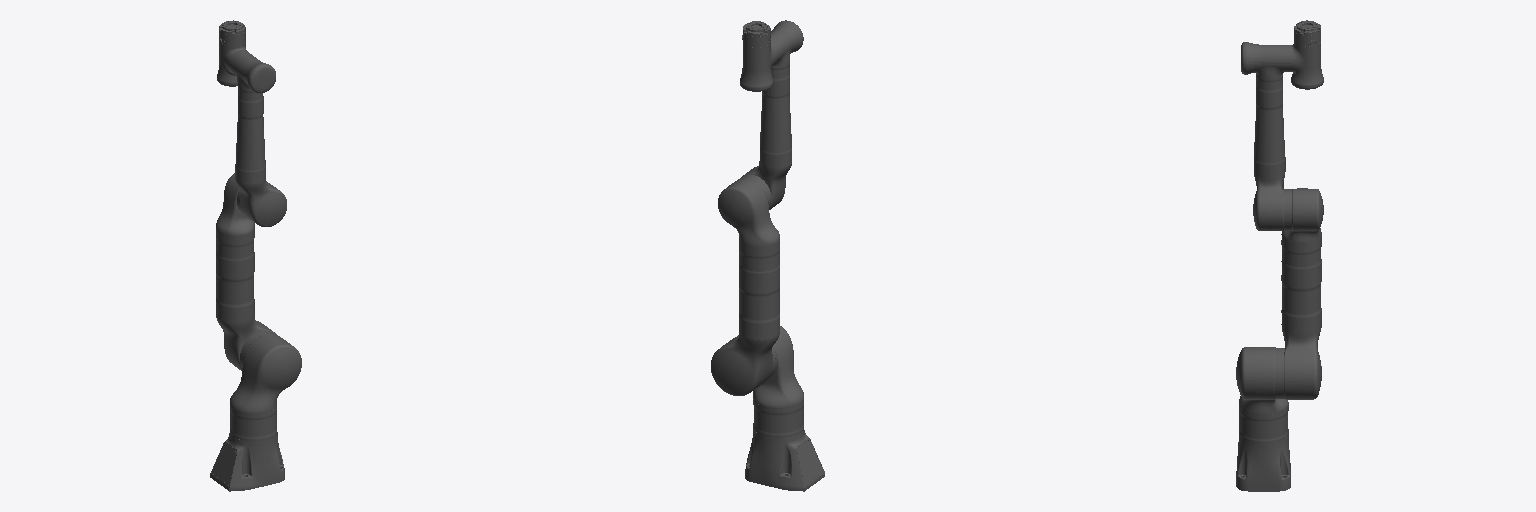
URDF robot description (kr1018):
<?xml version="1.0" ?>
<robot name="kr1018" xmlns:xacro="http://www.ros.org/wiki/xacro">
  <!-- Import Rviz colors -->
  <material name="Black">
    <color rgba="0.0 0.0 0.0 1.0"/>
  </material>
  <material name="Blue">
    <color rgba="0.0 0.0 0.8 1.0"/>
  </material>
  <material name="Green">
    <color rgba="0.0 0.8 0.0 1.0"/>
  </material>
  <material name="Grey">
    <color rgba="0.4 0.4 0.4 1.0"/>
  </material>
  <material name="Orange">
    <color rgba="1.0 0.423529411765 0.0392156862745 1.0"/>
  </material>
  <material name="Brown">
    <color rgba="0.870588235294 0.811764705882 0.764705882353 1.0"/>
  </material>
  <material name="Red">
    <color rgba="0.8 0.0 0.0 1.0"/>
  </material>
  <material name="White">
    <color rgba="1.0 1.0 1.0 1.0"/>
  </material>
  <!--Import the lbr kr macro -->
  <!-- Set to base_link just for testing it should be arm_link-->
  <link name="base_link"/>
  <!--kr-->
  <joint name="base_link_kr_joint" type="fixed">
    <origin rpy="0 0 0" xyz="0 0 0"/>
    <parent link="base_link"/>
    <child link="kr_link_0"/>
  </joint>
  <link name="kr_link_0">
    <inertial>
      <origin rpy="0 0 0" xyz="-0.1 0 0.07"/>
      <mass value="5"/>
      <inertia ixx="0.05" ixy="0" ixz="0" iyy="0.06" iyz="0" izz="0.03"/>
    </inertial>
    <visual>
      <origin rpy="0 0 0" xyz="0 0 0"/>
      <geometry>
        <mesh filename="package://bunker_description/meshes/kr1018/visual/link_0.stl"/>
      </geometry>
      <material name="Grey"/>
    </visual>
    <collision>
      <origin rpy="0 0 0" xyz="0 0 0"/>
      <geometry>
        <mesh filename="package://bunker_description/meshes/kr1018/collision/link_0.stl"/>
      </geometry>
      <material name="Grey"/>
    </collision>
    <self_collision_checking>
      <origin rpy="0 0 0" xyz="0 0 0"/>
      <geometry>
        <capsule length="0.25" radius="0.15"/>
      </geometry>
    </self_collision_checking>
  </link>
  <joint name="kr_joint_1" type="revolute">
    <parent link="kr_link_0"/>
    <child link="kr_link_1"/>
    <origin rpy="0 0 0" xyz="0.017 0 0.2432"/>
    <axis xyz="0 0 1"/>
    <limit effort="300" lower="-2.96705972839" upper="2.96705972839" velocity="10"/>
    <safety_controller k_position="100" k_velocity="2" soft_lower_limit="-2.93215314335" soft_upper_limit="2.93215314335"/>
    <dynamics damping="0.5"/>
  </joint>
  <link name="kr_link_1">
    <inertial>
      <origin rpy="0 0 0" xyz="0 -0.03 0.12"/>
      <mass value="4"/>
      <inertia ixx="0.1" ixy="0" ixz="0" iyy="0.09" iyz="0" izz="0.02"/>
    </inertial>
    <visual>
      <origin rpy="0 0 0" xyz="0 0 0"/>
      <geometry>
        <mesh filename="package://bunker_description/meshes/kr1018/visual/link_1.stl"/>
      </geometry>
      <material name="Grey"/>
    </visual>
    <collision>
      <origin rpy="0 0 0" xyz="0 0 0"/>
      <geometry>
        <mesh filename="package://bunker_description/meshes/kr1018/collision/link_1.stl"/>
      </geometry>
      <material name="Grey"/>
    </collision>
  </link>
  <joint name="kr_joint_2" type="revolute">
    <parent link="kr_link_1"/>
    <child link="kr_link_2"/>
    <origin rpy="1.57079632679   0 3.14159265359" xyz="0.062 0.0462 0.13"/>
    <axis xyz="0 0 1"/>
    <limit effort="300" lower="-2.09439510239" upper="2.09439510239" velocity="10"/>
    <safety_controller k_position="100" k_velocity="2" soft_lower_limit="-2.05948851735" soft_upper_limit="2.05948851735"/>
    <dynamics damping="0.5"/>
  </joint>
  <link name="kr_link_2">
    <inertial>
      <origin rpy="0 0 0" xyz="0.0003 0.059 0.042"/>
      <mass value="4"/>
      <inertia ixx="0.05" ixy="0" ixz="0" iyy="0.018" iyz="0" izz="0.044"/>
    </inertial>
    <visual>
      <origin rpy="0 0 0" xyz="0 0 0"/>
      <geometry>
        <mesh filename="package://bunker_description/meshes/kr1018/visual/link_2.stl"/>
      </geometry>
      <material name="Grey"/>
    </visual>
    <collision>
      <origin rpy="0 0 0" xyz="0 0 0"/>
      <geometry>
        <mesh filename="package://bunker_description/meshes/kr1018/collision/link_2.stl"/>
      </geometry>
      <material name="Grey"/>
    </collision>
  </link>
  <joint name="kr_joint_3" type="revolute">
    <parent link="kr_link_2"/>
    <child link="kr_link_3"/>
    <origin rpy="1.57079632679 0 3.14159265359" xyz="0.062 0.2908 0.0647"/>
    <axis xyz="0 0 1"/>
    <limit effort="300" lower="-2.96705972839" upper="2.96705972839" velocity="10"/>
    <safety_controller k_position="100" k_velocity="2" soft_lower_limit="-2.93215314335" soft_upper_limit="2.93215314335"/>
    <dynamics damping="0.5"/>
  </joint>
  <link name="kr_link_3">
    <inertial>
      <origin rpy="0 0 0" xyz="0 0.03 0.13"/>
      <mass value="3"/>
      <inertia ixx="0.08" ixy="0" ixz="0" iyy="0.075" iyz="0" izz="0.01"/>
    </inertial>
    <visual>
      <origin rpy="0 0 0" xyz="0 0 0"/>
      <geometry>
        <mesh filename="package://bunker_description/meshes/kr1018/visual/link_3.stl"/>
      </geometry>
      <material name="Grey"/>
    </visual>
    <collision>
      <origin rpy="0 0 0" xyz="0 0 0"/>
      <geometry>
        <mesh filename="package://bunker_description/meshes/kr1018/collision/link_3.stl"/>
      </geometry>
      <material name="Grey"/>
    </collision>
  </link>
  <joint name="kr_joint_4" type="revolute">
    <parent link="kr_link_3"/>
    <child link="kr_link_4"/>
    <origin rpy="1.57079632679 0 0" xyz="0.05 -0.0407 0.2317"/>
    <axis xyz="0 0 1"/>
    <limit effort="300" lower="-2.09439510239" upper="2.09439510239" velocity="10"/>
    <safety_controller k_position="100" k_velocity="2" soft_lower_limit="-2.05948851735" soft_upper_limit="2.05948851735"/>
    <dynamics damping="0.5"/>
  </joint>
  <link name="kr_link_4">
    <inertial>
      <origin rpy="0 0 0" xyz="0 0.067 0.034"/>
      <mass value="2.7"/>
      <inertia ixx="0.03" ixy="0" ixz="0" iyy="0.01" iyz="0" izz="0.029"/>
    </inertial>
    <visual>
      <origin rpy="0 0 0" xyz="0 0 0"/>
      <geometry>
        <mesh filename="package://bunker_description/meshes/kr1018/visual/link_4.stl"/>
      </geometry>
      <material name="Grey"/>
    </visual>
    <collision>
      <origin rpy="0 0 0" xyz="0 0 0"/>
      <geometry>
        <mesh filename="package://bunker_description/meshes/kr1018/collision/link_4.stl"/>
      </geometry>
      <material name="Grey"/>
    </collision>
  </link>
  <joint name="kr_joint_5" type="revolute">
    <parent link="kr_link_4"/>
    <child link="kr_link_5"/>
    <origin rpy="-1.57079632679 3.14159265359 0" xyz="-0.05 0.4195 0.0532"/>
    <axis xyz="0 0 1"/>
    <limit effort="300" lower="-2.96705972839" upper="2.96705972839" velocity="10"/>
    <safety_controller k_position="100" k_velocity="2" soft_lower_limit="-2.93215314335" soft_upper_limit="2.93215314335"/>
    <dynamics damping="0.5"/>
  </joint>
  <link name="kr_link_5">
    <inertial>
      <origin rpy="0 0 0" xyz="0.0001 0.021 0.076"/>
      <mass value="1.7"/>
      <inertia ixx="0.02" ixy="0" ixz="0" iyy="0.018" iyz="0" izz="0.005"/>
    </inertial>
    <visual>
      <origin rpy="0 0 0" xyz="0 0 0"/>
      <geometry>
        <mesh filename="package://bunker_description/meshes/kr1018/visual/link_5.stl"/>
      </geometry>
      <material name="Grey"/>
    </visual>
    <collision>
      <origin rpy="0 0 0" xyz="0 0 0"/>
      <geometry>
        <mesh filename="package://bunker_description/meshes/kr1018/collision/link_5.stl"/>
      </geometry>
      <material name="Grey"/>
    </collision>
  </link>
  <joint name="kr_joint_6" type="revolute">
    <parent link="kr_link_5"/>
    <child link="kr_link_6"/>
    <origin rpy="1.57079632679 0 0" xyz="0 -0.0645 0.0465"/>
    <axis xyz="0 0 1"/>
    <limit effort="300" lower="-2.09439510239" upper="2.09439510239" velocity="10"/>
    <safety_controller k_position="100" k_velocity="2" soft_lower_limit="-2.05948851735" soft_upper_limit="2.05948851735"/>
    <dynamics damping="0.5"/>
  </joint>
  <link name="kr_link_6">
    <inertial>
      <origin rpy="0 0 0" xyz="0 0.0006 0.0004"/>
      <mass value="1.8"/>
      <inertia ixx="0.005" ixy="0" ixz="0" iyy="0.0036" iyz="0" izz="0.0047"/>
    </inertial>
    <visual>
      <origin rpy="0 0 0" xyz="0 0 0"/>
      <geometry>
        <mesh filename="package://bunker_description/meshes/kr1018/visual/link_6.stl"/>
      </geometry>
      <material name="Grey"/>
    </visual>
    <collision>
      <origin rpy="0 0 0" xyz="0 0 0"/>
      <geometry>
        <mesh filename="package://bunker_description/meshes/kr1018/collision/link_6.stl"/>
      </geometry>
      <material name="Grey"/>
    </collision>
  </link>
  <joint name="kr_joint_7" type="revolute">
    <parent link="kr_link_6"/>
    <child link="kr_link_7"/>
    <origin rpy="-1.57079632679 3.14159265359 0" xyz="0 0.05655 0.0465"/>
    <axis xyz="0 0 1"/>
    <limit effort="300" lower="-3.05432619099" upper="3.05432619099" velocity="10"/>
    <safety_controller k_position="100" k_velocity="2" soft_lower_limit="-3.01941960595" soft_upper_limit="3.01941960595"/>
    <dynamics damping="0.5"/>
  </joint>
  <link name="kr_link_7">
    <inertial>
      <origin rpy="0 0 0" xyz="0 0 0.02"/>
      <mass value="0.3"/>
      <inertia ixx="0.001" ixy="0" ixz="0" iyy="0.001" iyz="0" izz="0.001"/>
    </inertial>
    <visual>
      <origin rpy="0 0 0" xyz="0 0 0"/>
      <geometry>
        <mesh filename="package://bunker_description/meshes/kr1018/visual/link_7.stl"/>
      </geometry>
      <material name="Grey"/>
    </visual>
    <collision>
      <origin rpy="0 0 0" xyz="0 0 0"/>
      <geometry>
        <mesh filename="package://bunker_description/meshes/kr1018/collision/link_7.stl"/>
      </geometry>
      <material name="Grey"/>
    </collision>
  </link>
  <joint name="kr_joint_ee" type="fixed">
    <parent link="kr_link_7"/>
    <child link="kr_link_ee"/>
    <origin rpy="0 -1.57079632679 0" xyz="0 0 0.05145"/>
  </joint>
  <link name="kr_link_ee">
    </link>
  <joint name="kr_joint_ee_kuka" type="fixed">
    <parent link="kr_link_7"/>
    <child link="kr_link_ee_kuka"/>
    <origin rpy="3.14159265359 3.14159265359 3.14159265359" xyz="0 0 0.045"/>
    <axis xyz="0 0 1"/>
  </joint>
  <link name="kr_link_ee_kuka">
    </link>
  <gazebo>
    <plugin filename="libgazebo_ros_control.so" name="gazebo_ros_control">
      <robotNamespace>/kr</robotNamespace>
    </plugin>
  </gazebo>
  <gazebo reference="kr_link_0">
    <material>Gazebo/Grey</material>
    <mu1>0.2</mu1>
    <mu2>0.2</mu2>
  </gazebo>
  <gazebo reference="kr_link_1">
    <material>Gazebo/Grey</material>
    <mu1>0.2</mu1>
    <mu2>0.2</mu2>
  </gazebo>
  <gazebo reference="kr_link_2">
    <material>Gazebo/Grey</material>
    <mu1>0.2</mu1>
    <mu2>0.2</mu2>
  </gazebo>
  <gazebo reference="kr_link_3">
    <material>Gazebo/Grey</material>
    <mu1>0.2</mu1>
    <mu2>0.2</mu2>
  </gazebo>
  <gazebo reference="kr_link_4">
    <material>Gazebo/Grey</material>
    <mu1>0.2</mu1>
    <mu2>0.2</mu2>
  </gazebo>
  <gazebo reference="kr_link_5">
    <material>Gazebo/Grey</material>
    <mu1>0.2</mu1>
    <mu2>0.2</mu2>
  </gazebo>
  <gazebo reference="kr_link_6">
    <material>Gazebo/Grey</material>
    <mu1>0.2</mu1>
    <mu2>0.2</mu2>
  </gazebo>
  <gazebo reference="kr_link_7">
    <material>Gazebo/Grey</material>
    <mu1>0.2</mu1>
    <mu2>0.2</mu2>
  </gazebo>
  <transmission name="kr_tran_1">
    <robotNamespace>/kr</robotNamespace>
    <type>transmission_interface/SimpleTransmission</type>
    <joint name="kr_joint_1">
      <hardwareInterface>PositionJointInterface</hardwareInterface>
    </joint>
    <actuator name="kr_motor_1">
      <hardwareInterface>PositionJointInterface</hardwareInterface>
      <mechanicalReduction>1</mechanicalReduction>
    </actuator>
  </transmission>
  <transmission name="kr_tran_2">
    <robotNamespace>/kr</robotNamespace>
    <type>transmission_interface/SimpleTransmission</type>
    <joint name="kr_joint_2">
      <hardwareInterface>PositionJointInterface</hardwareInterface>
    </joint>
    <actuator name="kr_motor_2">
      <hardwareInterface>PositionJointInterface</hardwareInterface>
      <mechanicalReduction>1</mechanicalReduction>
    </actuator>
  </transmission>
  <transmission name="kr_tran_3">
    <robotNamespace>/kr</robotNamespace>
    <type>transmission_interface/SimpleTransmission</type>
    <joint name="kr_joint_3">
      <hardwareInterface>PositionJointInterface</hardwareInterface>
    </joint>
    <actuator name="kr_motor_3">
      <hardwareInterface>PositionJointInterface</hardwareInterface>
      <mechanicalReduction>1</mechanicalReduction>
    </actuator>
  </transmission>
  <transmission name="kr_tran_4">
    <robotNamespace>/kr</robotNamespace>
    <type>transmission_interface/SimpleTransmission</type>
    <joint name="kr_joint_4">
      <hardwareInterface>PositionJointInterface</hardwareInterface>
    </joint>
    <actuator name="kr_motor_4">
      <hardwareInterface>PositionJointInterface</hardwareInterface>
      <mechanicalReduction>1</mechanicalReduction>
    </actuator>
  </transmission>
  <transmission name="kr_tran_5">
    <robotNamespace>/kr</robotNamespace>
    <type>transmission_interface/SimpleTransmission</type>
    <joint name="kr_joint_5">
      <hardwareInterface>PositionJointInterface</hardwareInterface>
    </joint>
    <actuator name="kr_motor_5">
      <hardwareInterface>PositionJointInterface</hardwareInterface>
      <mechanicalReduction>1</mechanicalReduction>
    </actuator>
  </transmission>
  <transmission name="kr_tran_6">
    <robotNamespace>/kr</robotNamespace>
    <type>transmission_interface/SimpleTransmission</type>
    <joint name="kr_joint_6">
      <hardwareInterface>PositionJointInterface</hardwareInterface>
    </joint>
    <actuator name="kr_motor_6">
      <hardwareInterface>PositionJointInterface</hardwareInterface>
      <mechanicalReduction>1</mechanicalReduction>
    </actuator>
  </transmission>
  <transmission name="kr_tran_7">
    <robotNamespace>/kr</robotNamespace>
    <type>transmission_interface/SimpleTransmission</type>
    <joint name="kr_joint_7">
      <hardwareInterface>PositionJointInterface</hardwareInterface>
    </joint>
    <actuator name="kr_motor_7">
      <hardwareInterface>PositionJointInterface</hardwareInterface>
      <mechanicalReduction>1</mechanicalReduction>
    </actuator>
  </transmission>
</robot>

--- Facts derived from the render (not from the file) ---
Views: 3 orthographic renders of the robot side by side, from view 1: azimuth 30°, elevation 25°; view 2: azimuth 150°, elevation 25°; view 3: azimuth 270°, elevation 25°.
Robot: kr1018 — 11 links, 10 joints (7 revolute, 3 fixed); root link base_link; default pose: all joints at 0.
Links seen in each view (by area): view 1: kr_link_0, kr_link_4, kr_link_1, kr_link_2, kr_link_3, kr_link_5, kr_link_6, kr_link_7; view 2: kr_link_2, kr_link_0, kr_link_3, kr_link_4, kr_link_1, kr_link_6, kr_link_5, kr_link_7; view 3: kr_link_2, kr_link_4, kr_link_0, kr_link_3, kr_link_1, kr_link_5, kr_link_6, kr_link_7.
Link boxes in pixels (<box>): kr_link_0: <box>210,407,284,491</box>; kr_link_4: <box>235,86,286,226</box>; kr_link_1: <box>230,333,301,413</box>; kr_link_2: <box>216,266,276,370</box>; kr_link_3: <box>216,173,266,273</box>; kr_link_5: <box>229,50,275,93</box>; kr_link_6: <box>217,40,247,86</box>; kr_link_7: <box>219,20,245,44</box>; kr_link_2: <box>711,281,779,395</box>; kr_link_0: <box>745,399,824,491</box>; kr_link_3: <box>718,177,779,287</box>; kr_link_4: <box>741,62,791,209</box>; kr_link_1: <box>738,326,803,408</box>; kr_link_6: <box>740,42,776,91</box>; kr_link_5: <box>771,20,803,65</box>; kr_link_7: <box>742,21,770,47</box>; kr_link_2: <box>1280,275,1321,399</box>; kr_link_4: <box>1253,74,1287,230</box>; kr_link_0: <box>1236,406,1290,491</box>; kr_link_3: <box>1281,188,1323,282</box>; kr_link_1: <box>1236,347,1288,414</box>; kr_link_5: <box>1241,42,1291,77</box>; kr_link_6: <box>1291,42,1323,89</box>; kr_link_7: <box>1294,20,1320,46</box>.
Bounding box of the posed robot: 0.2584 × 0.2568 × 1.47 m (x, y, z).
8 mesh visuals loaded from 8 distinct referenced files (8 binary STL).
